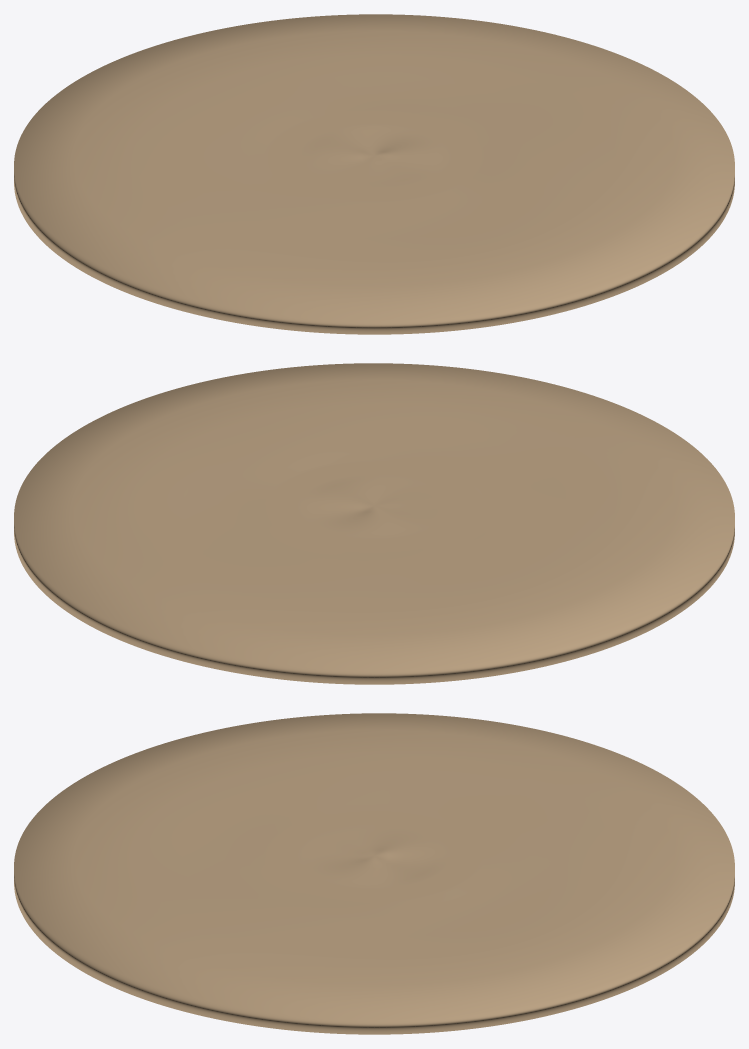
Rendered from TitleGround.obj.
3 renders of one model, top to bottom at view 1: azimuth 30°, elevation 25°; view 2: azimuth 150°, elevation 25°; view 3: azimuth 270°, elevation 25°, orthographic.
Parts seen in each view (by area): view 1: TitleGround; view 2: TitleGround; view 3: TitleGround.
Boxes of the visible parts, x1,y1,x2,y2 form: TitleGround: (14, 14, 734, 334); TitleGround: (14, 363, 734, 684); TitleGround: (14, 713, 734, 1034).
Size of the model in its own units: 600 by 24.75 by 600.
Materials: 1 (1 with a texture image).
